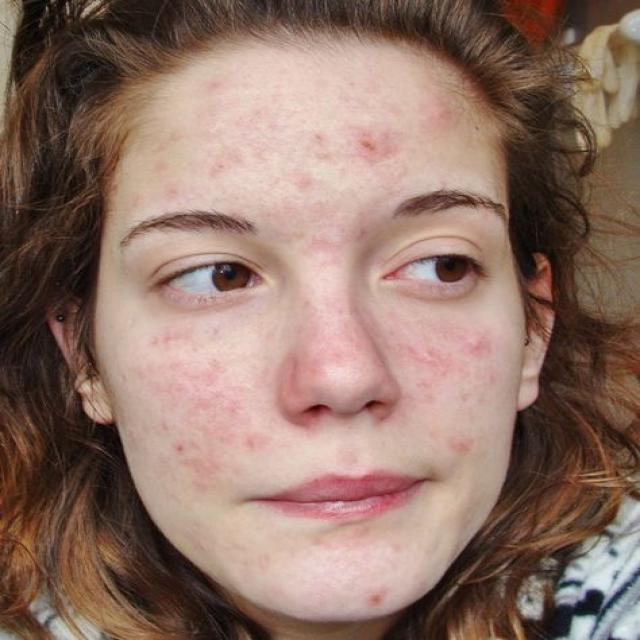Acne: (148, 364, 252, 482), (284, 107, 340, 190), (430, 88, 500, 144), (345, 128, 395, 177), (405, 336, 444, 384), (358, 584, 414, 615), (437, 423, 482, 460), (298, 234, 350, 262), (141, 328, 198, 352), (463, 330, 505, 360), (293, 356, 332, 388), (150, 155, 178, 179), (200, 78, 223, 95), (210, 161, 227, 176)
